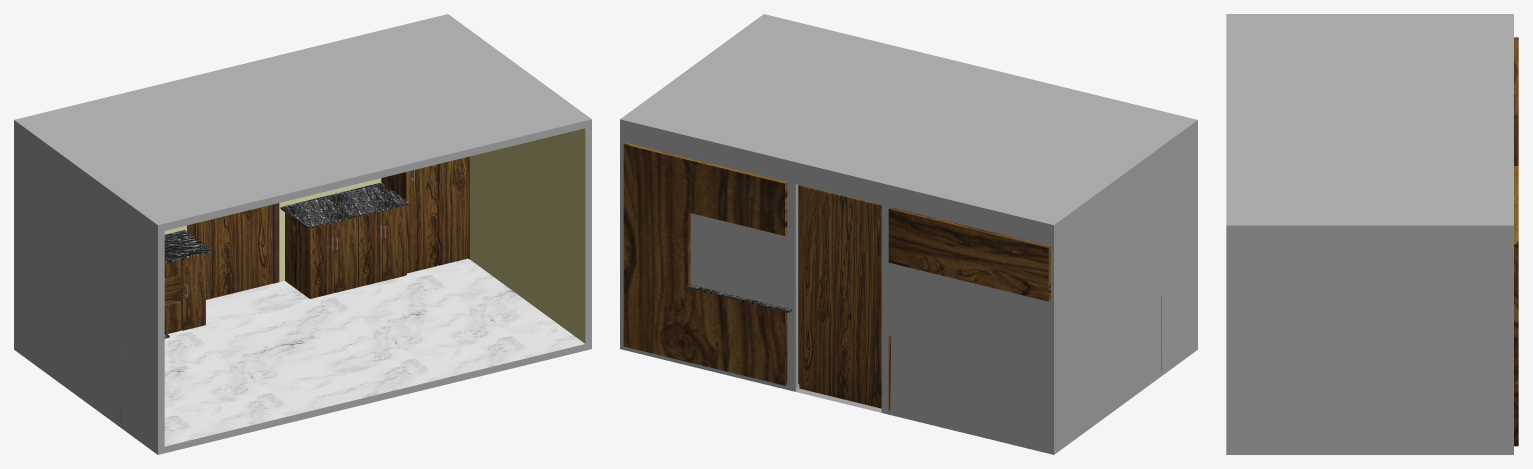
Rendered from Modern_House_Interior_-_Low_Poly_ArchViz_Room.glb.
The picture shows the model from 3 angles, left to right: view 1: azimuth 30°, elevation 25°; view 2: azimuth 150°, elevation 25°; view 3: azimuth 270°, elevation 25°; orthographic projection.
Parts seen in each view (by area): view 1: unnamed (×15); view 2: unnamed (×4); view 3: unnamed (×3).
Part boxes in pixels (bbox=[...]): unnamed (×15): bbox=[14, 14, 591, 454]; unnamed (×4): bbox=[620, 14, 1197, 454]; unnamed (×3): bbox=[1226, 14, 1518, 454].
Bounding box in the file's own units: 1.86 × 0.9386 × 1.08.
12 materials, 7 textured.
